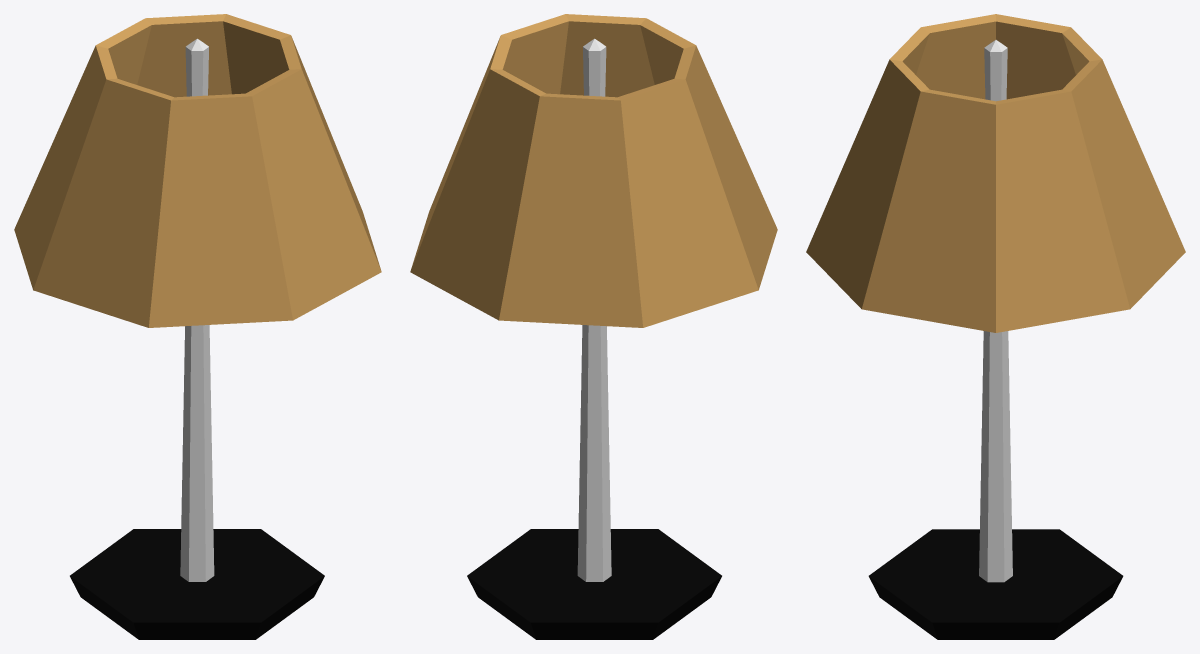
File: Lamp (1).fbx
The picture shows the model from 3 angles, left to right: view 1: azimuth 30°, elevation 25°; view 2: azimuth 150°, elevation 25°; view 3: azimuth 270°, elevation 25°; orthographic projection.
Parts seen in each view (by area): view 1: lamp; view 2: lamp; view 3: lamp.
Boxes of the visible parts, box(x1,y1,x2,y2) form: lamp: box(14, 14, 381, 639); lamp: box(410, 14, 777, 639); lamp: box(806, 14, 1185, 639).
Size of the model in its own units: 0.6348 by 1.03 by 0.6348.
